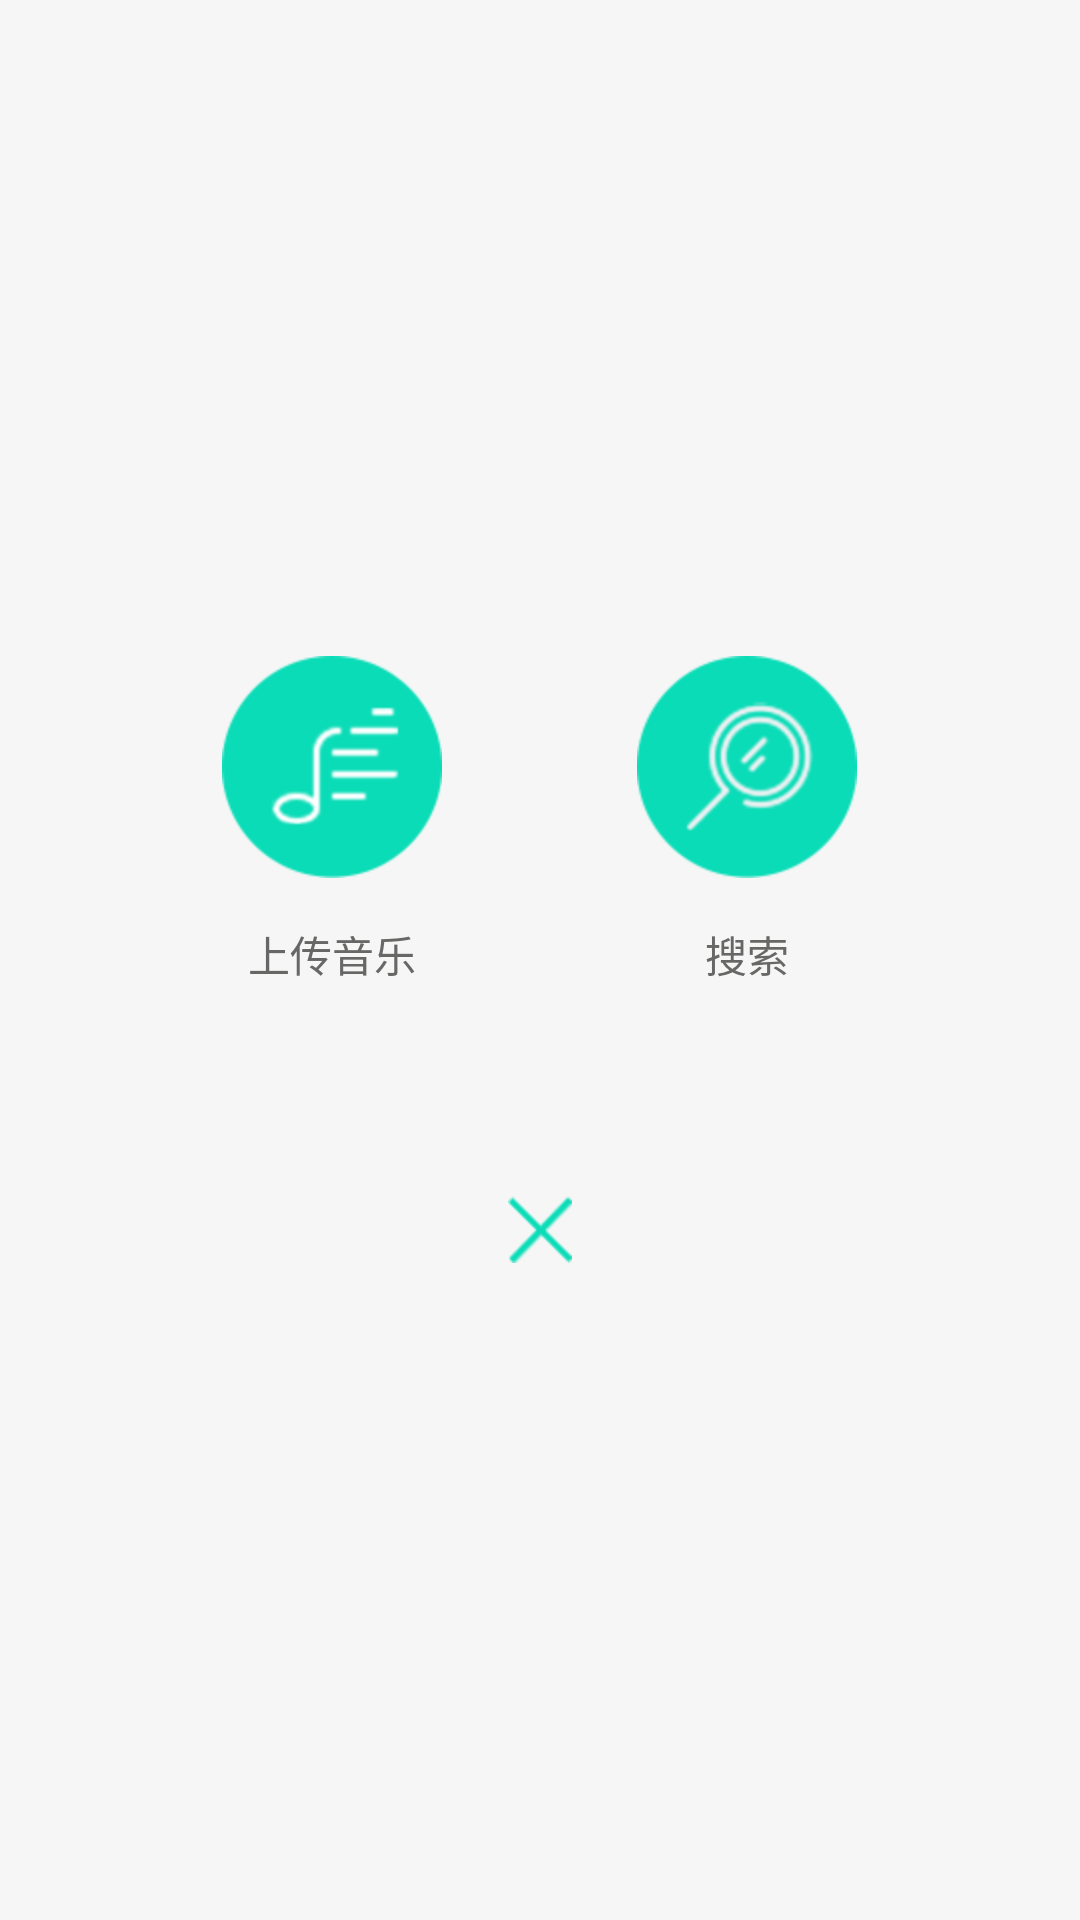

Locate icon controls on the screen. Image size 1080px×1920px, boxes as (x1, y1, x2, y2).
cancel: (508, 1197, 572, 1263)
